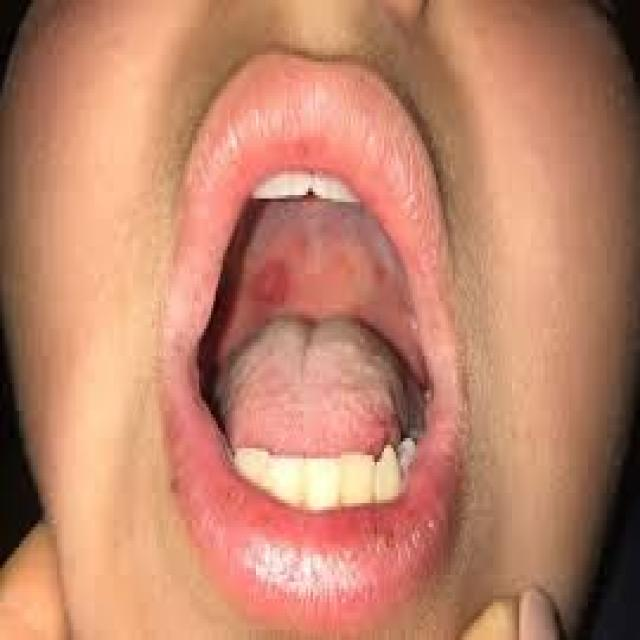processing_area: (199, 198, 423, 448)
ulcer-detection: (237, 241, 300, 321), (360, 238, 392, 300)
